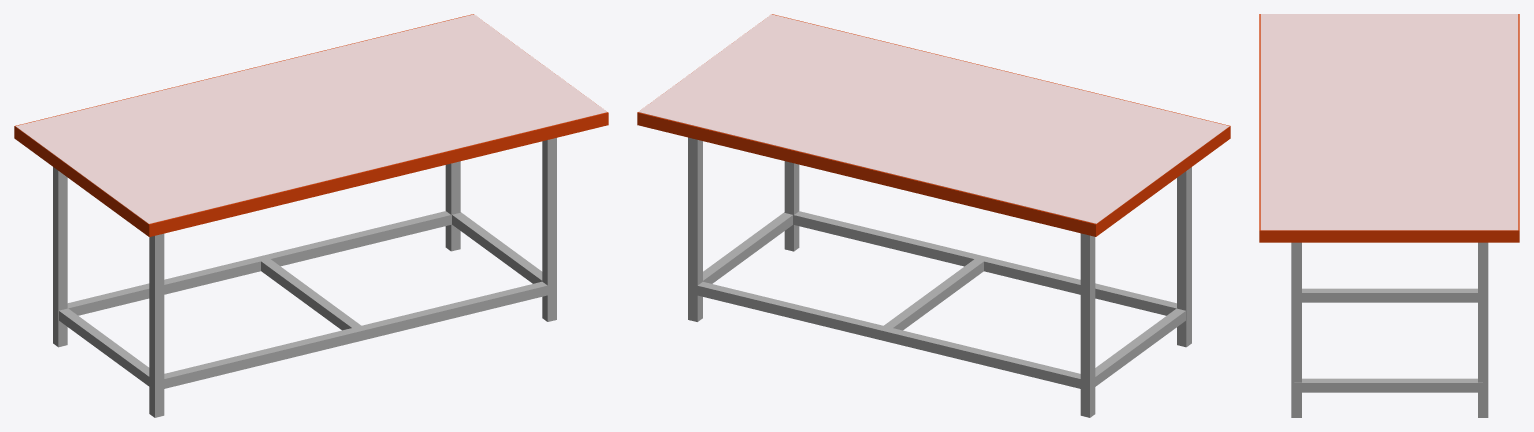
Rendered from Reading_room_table.fbx.
The picture shows the model from 3 angles, left to right: view 1: azimuth 30°, elevation 25°; view 2: azimuth 150°, elevation 25°; view 3: azimuth 270°, elevation 25°; orthographic projection. The views are drawn at different scales.
Parts seen in each view (by area): view 1: Cube.001, Cube.002, Cube.007, Cube.008, Cube.006, Cube.003, Cube.005, Cube.011, Cube.009, Cube.010, Cube.004; view 2: Cube.001, Cube.002, Cube.008, Cube.007, Cube.005, Cube.004, Cube.006, Cube.011, Cube.009, Cube.010, Cube.003; view 3: Cube.001, Cube.002, Cube.010, Cube.011, Cube.004, Cube.003.
Boxes of the visible parts, bbox=[...] form: Cube.001: bbox=[15, 14, 606, 223]; Cube.002: bbox=[14, 14, 608, 236]; Cube.007: bbox=[164, 281, 547, 388]; Cube.008: bbox=[67, 211, 451, 315]; Cube.006: bbox=[149, 233, 164, 417]; Cube.003: bbox=[542, 138, 556, 321]; Cube.005: bbox=[53, 167, 67, 347]; Cube.011: bbox=[261, 259, 361, 330]; Cube.009: bbox=[59, 308, 149, 386]; Cube.010: bbox=[452, 212, 542, 283]; Cube.004: bbox=[445, 161, 460, 251]; Cube.001: bbox=[638, 14, 1229, 223]; Cube.002: bbox=[637, 14, 1230, 236]; Cube.008: bbox=[692, 282, 1084, 388]; Cube.007: bbox=[793, 211, 1176, 315]; Cube.005: bbox=[1080, 233, 1095, 417]; Cube.004: bbox=[688, 137, 702, 321]; Cube.006: bbox=[1177, 167, 1191, 347]; Cube.011: bbox=[880, 258, 985, 331]; Cube.009: bbox=[1095, 308, 1185, 386]; Cube.010: bbox=[703, 212, 792, 283]; Cube.003: bbox=[784, 161, 799, 251]; Cube.001: bbox=[1260, 14, 1518, 230]; Cube.002: bbox=[1259, 14, 1519, 242]; Cube.010: bbox=[1294, 378, 1482, 392]; Cube.011: bbox=[1302, 288, 1477, 302]; Cube.004: bbox=[1478, 242, 1488, 417]; Cube.003: bbox=[1291, 242, 1301, 417].
Size of the model in its own units: 993 by 436 by 505.
